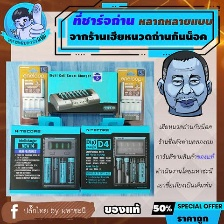battery: (57, 154, 70, 186), (40, 155, 53, 185), (137, 156, 149, 187), (66, 156, 76, 186), (129, 158, 139, 186), (121, 157, 131, 185), (114, 158, 123, 185)
book: (78, 118, 153, 199), (7, 118, 81, 198), (44, 67, 119, 119)
